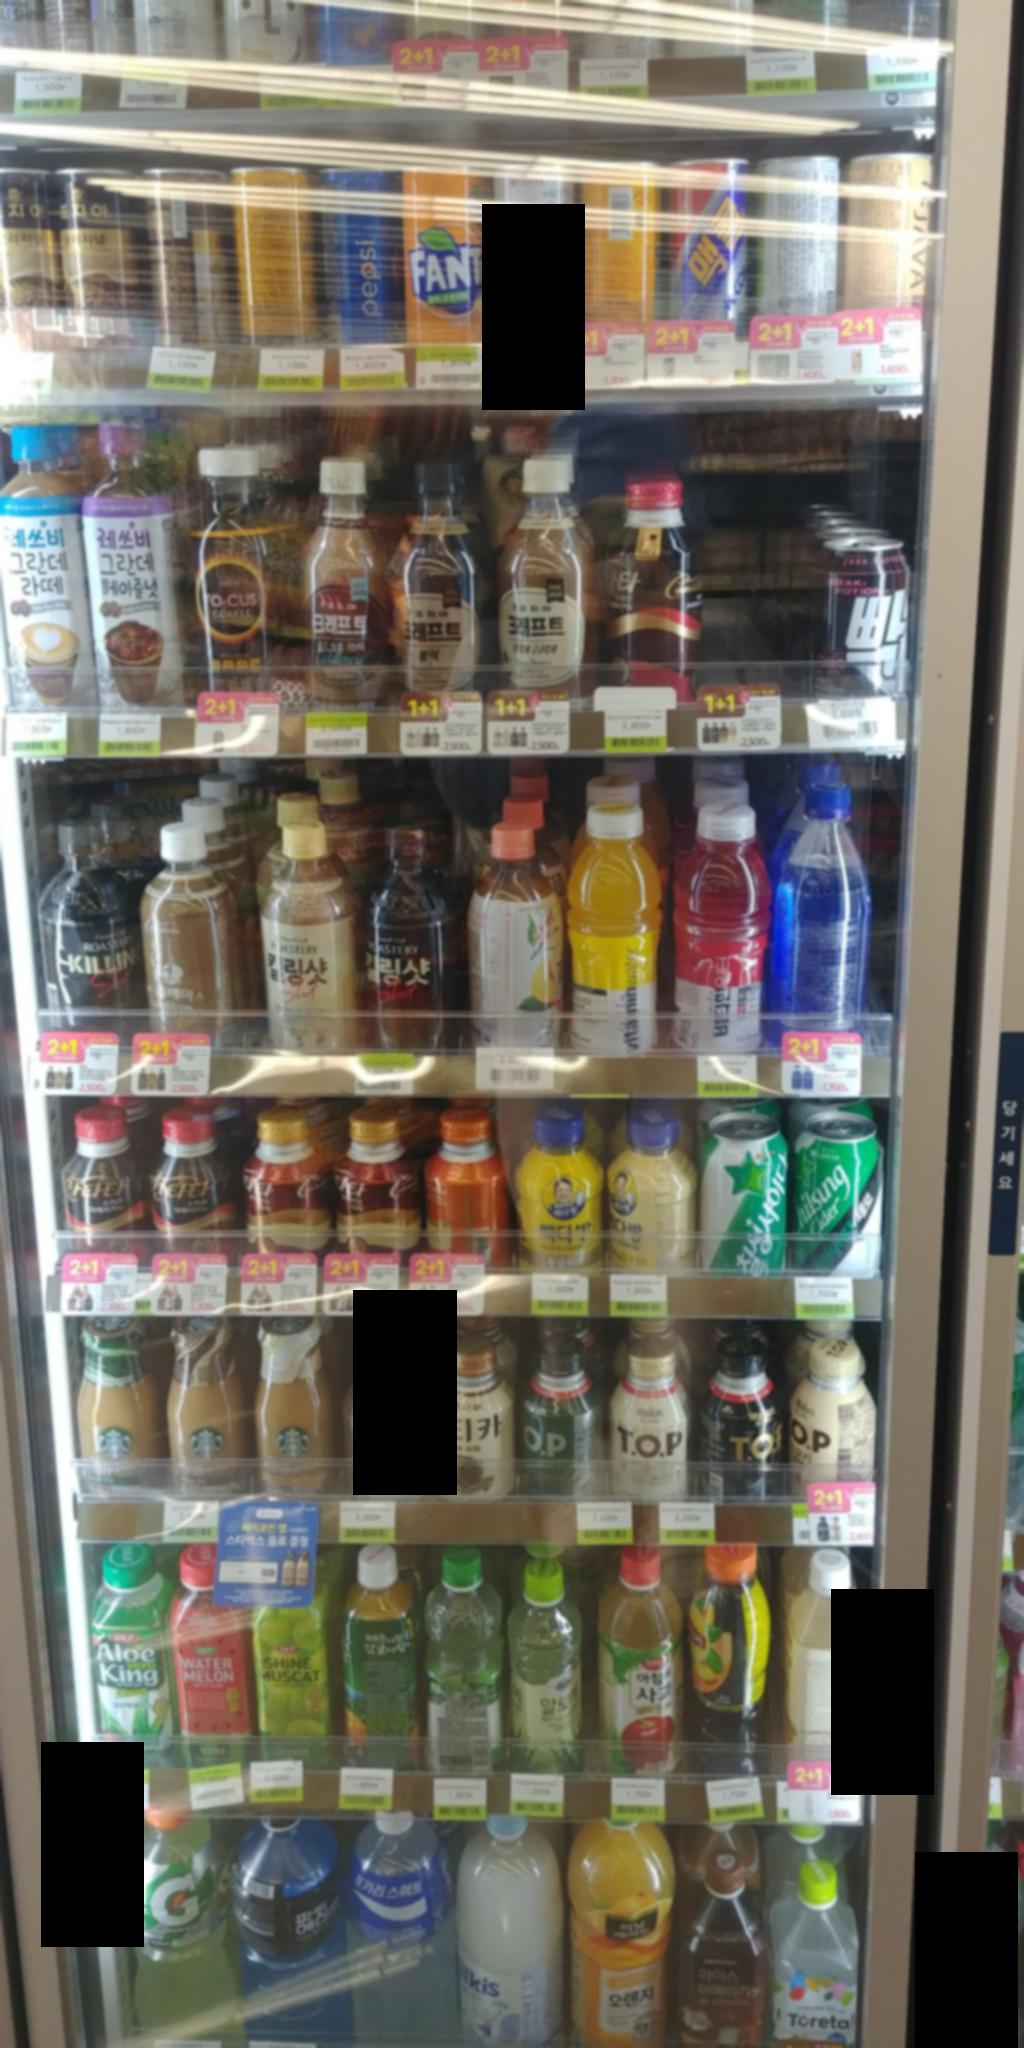TOP_black: (701, 1332, 784, 1506)
chilsungcider: (700, 1100, 794, 1283)
georgiacraft_black: (384, 451, 502, 704)
letsbe_grande_hazelnut: (69, 413, 195, 713)
